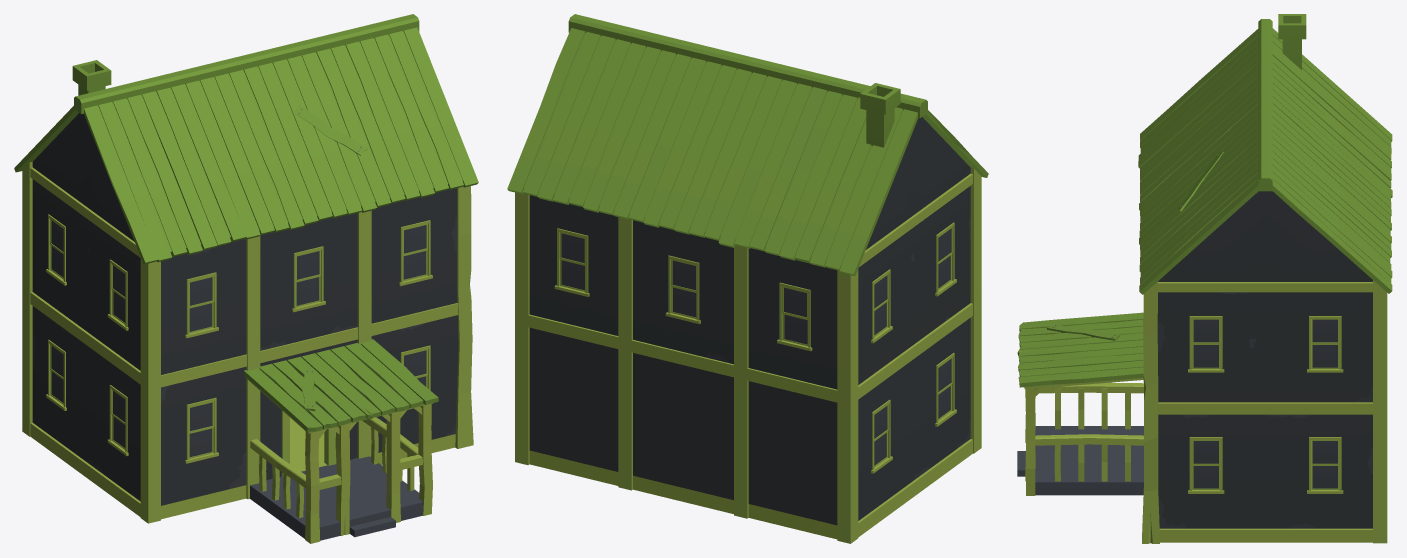
The model's file is House_08.fbx.
3 renders of one model, left to right at view 1: azimuth 30°, elevation 25°; view 2: azimuth 150°, elevation 25°; view 3: azimuth 270°, elevation 25°, orthographic. The views are drawn at different scales.
Parts seen in each view (by area): view 1: House_08; view 2: House_08; view 3: House_08.
Part boxes in pixels (<box>): House_08: <box>14,14,478,543</box>; House_08: <box>507,14,988,543</box>; House_08: <box>1017,14,1392,543</box>.
Bounding box in the file's own units: 7.9 × 8.81 × 7.87.
